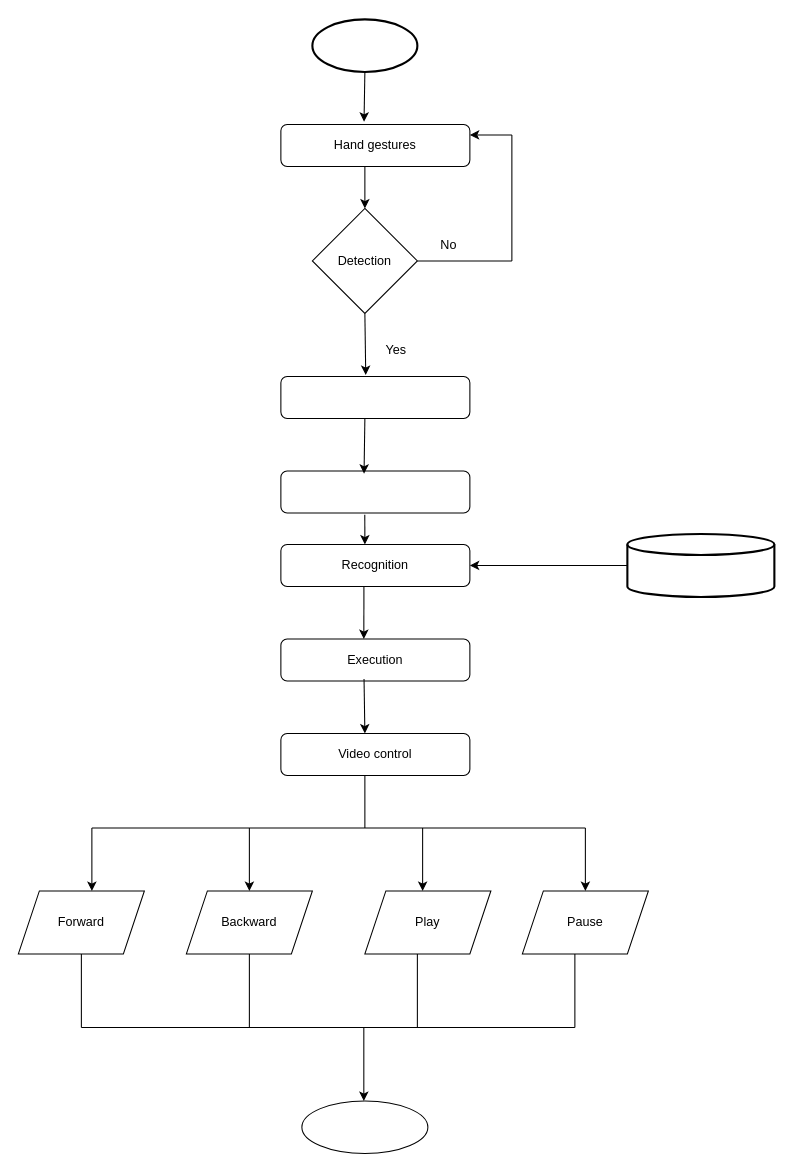
Image size: 794x1172. Some labels were removed from this diagram. The box of each missing label's shape, as (x1, y1, x2, y2) in pixels:
End: (301, 1100, 428, 1153)
Feature extraction: (280, 470, 470, 513)
Gesture dictionary: (626, 532, 775, 597)
Preprocessing: (280, 375, 470, 418)
Start: (311, 18, 418, 72)
